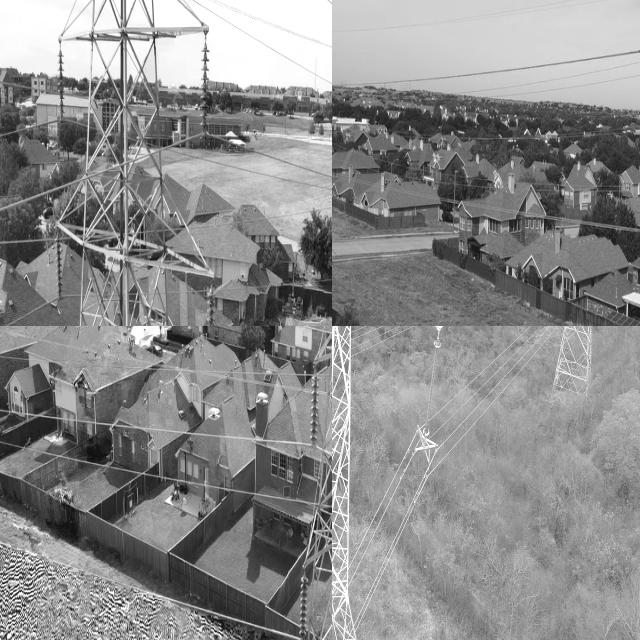杆塔: (48, 0, 216, 326), (550, 326, 591, 395)
正常电缆: (339, 464, 433, 640), (332, 433, 417, 608), (443, 326, 554, 446), (445, 339, 548, 464), (444, 326, 547, 427), (449, 326, 535, 406)
正常绝缘子: (414, 331, 448, 452), (195, 26, 214, 148), (54, 33, 68, 130), (308, 368, 323, 452), (296, 569, 313, 640), (49, 228, 66, 296), (198, 271, 219, 326)
